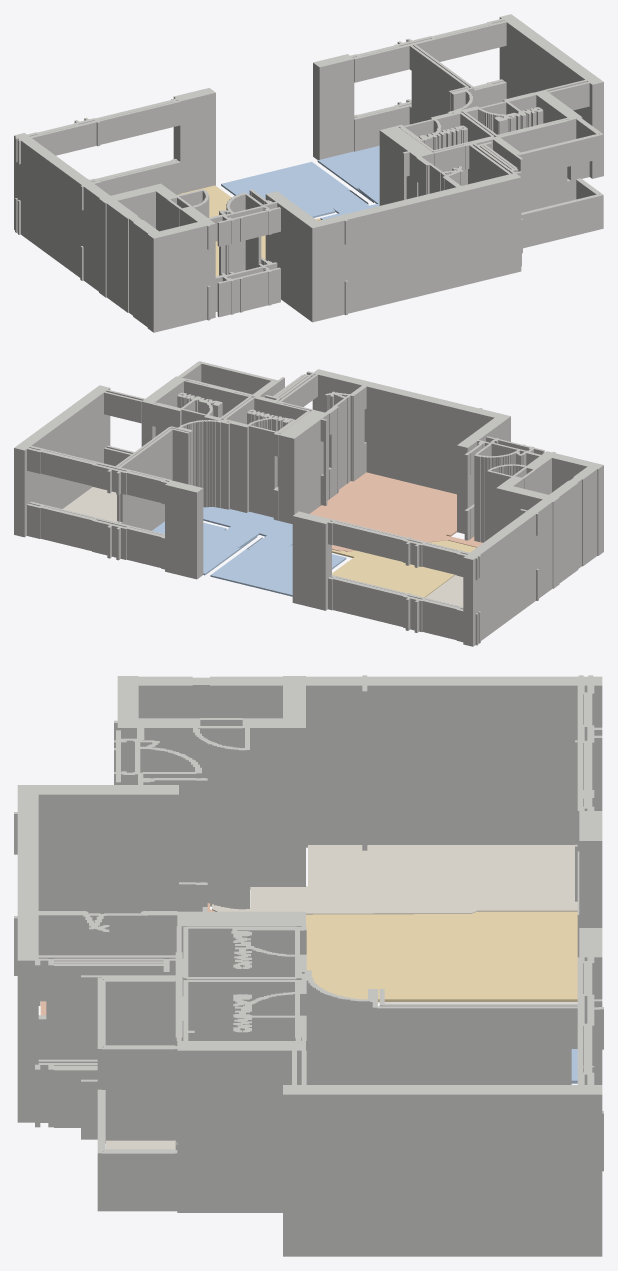
The picture shows the model from 3 angles, top to bottom: view 1: azimuth 30°, elevation 25°; view 2: azimuth 150°, elevation 25°; view 3: azimuth 270°, elevation 25°; orthographic projection. The views are drawn at different scales.
Parts seen in each view (by area): view 1: walls, room:bedroom:2, room:living:1; view 2: walls, room:kitchen:4, room:bedroom:2, room:living:1, room:other:5, room:other:0; view 3: walls, room:living:1, room:other:0.
Boxes of the visible parts, bbox=[...] form: walls: bbox=[14, 14, 603, 332]; room:bedroom:2: bbox=[221, 145, 379, 219]; room:living:1: bbox=[177, 185, 320, 276]; walls: bbox=[14, 361, 603, 646]; room:kitchen:4: bbox=[310, 472, 482, 551]; room:bedroom:2: bbox=[152, 507, 346, 596]; room:living:1: bbox=[332, 540, 476, 597]; room:other:5: bbox=[62, 487, 116, 521]; room:other:0: bbox=[425, 575, 463, 606]; walls: bbox=[14, 675, 603, 1256]; room:living:1: bbox=[306, 911, 577, 1002]; room:other:0: bbox=[212, 845, 577, 914].
Size of the model in its own units: 15.54 by 2.8 by 9.24.
